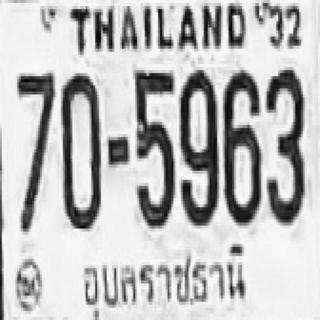N00: (60, 70, 100, 228)
N03: (265, 67, 303, 222)
N05: (134, 68, 174, 227)
N06: (223, 67, 259, 222)
N07: (15, 72, 55, 230)
N09: (179, 67, 217, 222)
P72: (72, 240, 255, 320)
